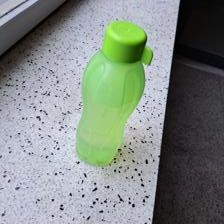bottle: (69, 20, 154, 165)
